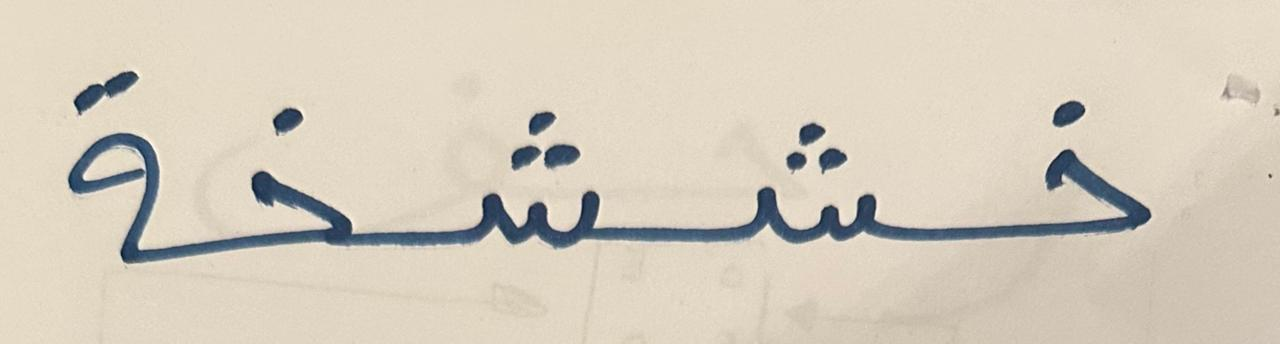lam: (937, 32, 1207, 312), (197, 29, 402, 304)
tah: (406, 25, 674, 306), (678, 35, 932, 308)
thal: (26, 16, 192, 304)
